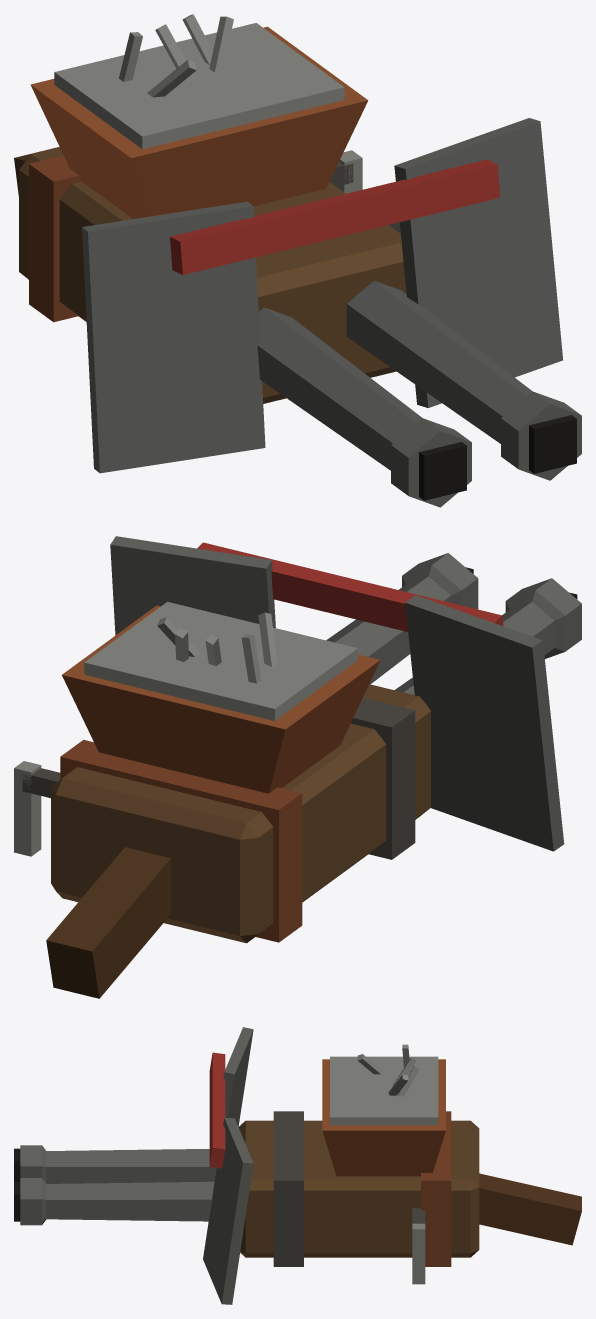
The model's file is torre_lancador_2.glb.
3 views of the same model, one above another, from view 1: azimuth 30°, elevation 25°; view 2: azimuth 150°, elevation 25°; view 3: azimuth 270°, elevation 25° (orthographic). The views are drawn at different scales.
Parts seen in each view (by area): view 1: torre_lancador_2.001; view 2: torre_lancador_2.001; view 3: torre_lancador_2.001.
Part boxes in pixels (bbox=[...]): torre_lancador_2.001: bbox=[14, 14, 581, 507]; torre_lancador_2.001: bbox=[14, 536, 581, 998]; torre_lancador_2.001: bbox=[14, 1027, 581, 1304].
Size of the model in its own units: 0.7592 by 0.4558 by 1.31.
